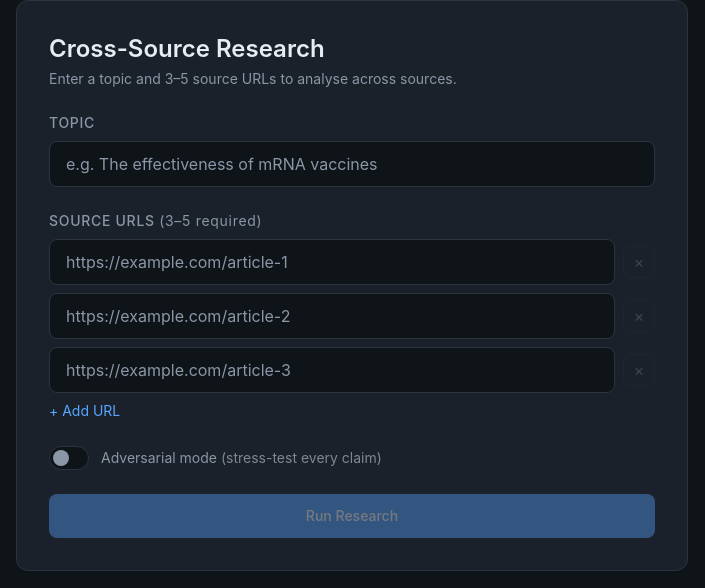
Scenario: InputForm › submit button is enabled when topic and 3 valid URLs are filled
In the field with placeholder "e.g. The effectiveness of mRNA vaccines": (352, 164) [49,141,655,187], type "Test topic"
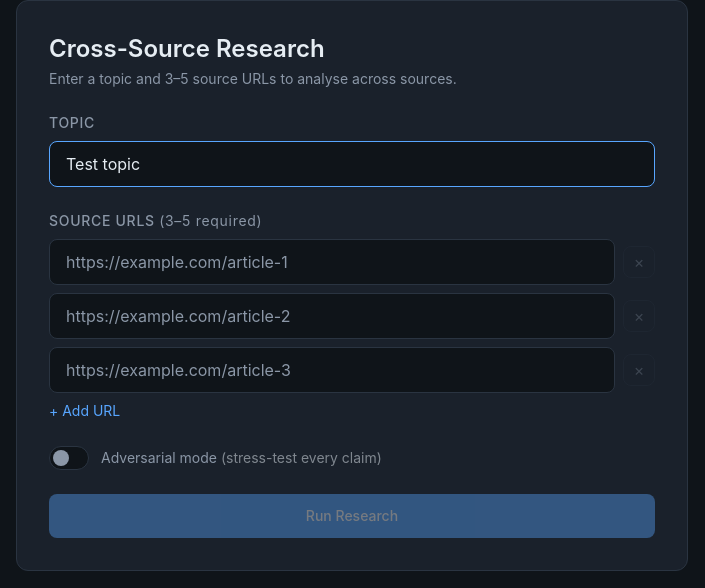
In the field with placeholder "https://example.com/article-1": (332, 262) [49,239,615,285], type "https://example.com/a"
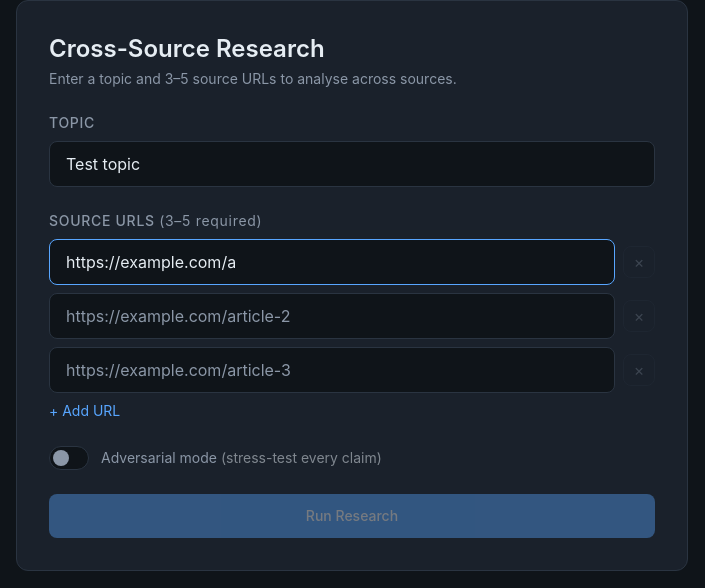
In the field with placeholder "https://example.com/article-2": (332, 316) [49,293,615,339], type "https://example.com/b"
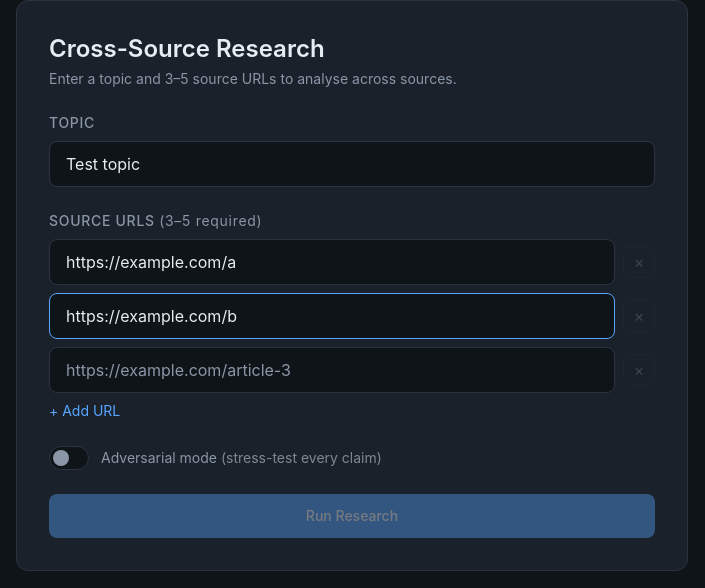
In the field with placeholder "https://example.com/article-3": (332, 370) [49,347,615,393], type "https://example.com/c"
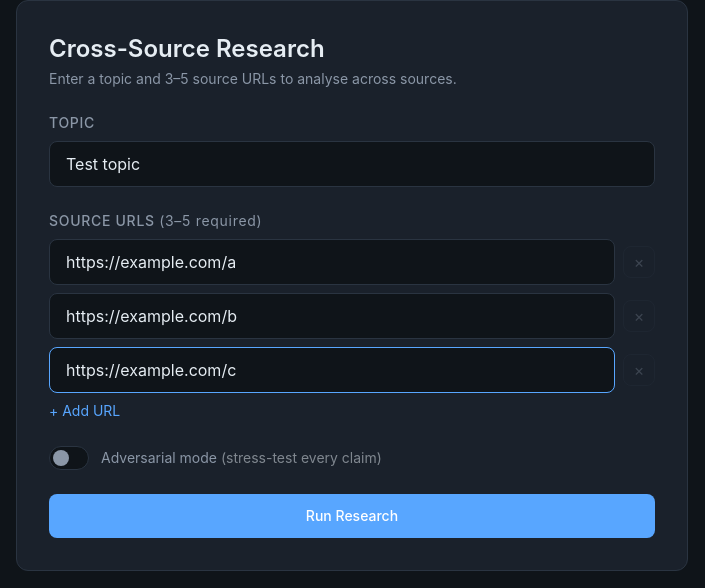
Check: the button "Run Research" is enabled, box [49,494,655,538]
